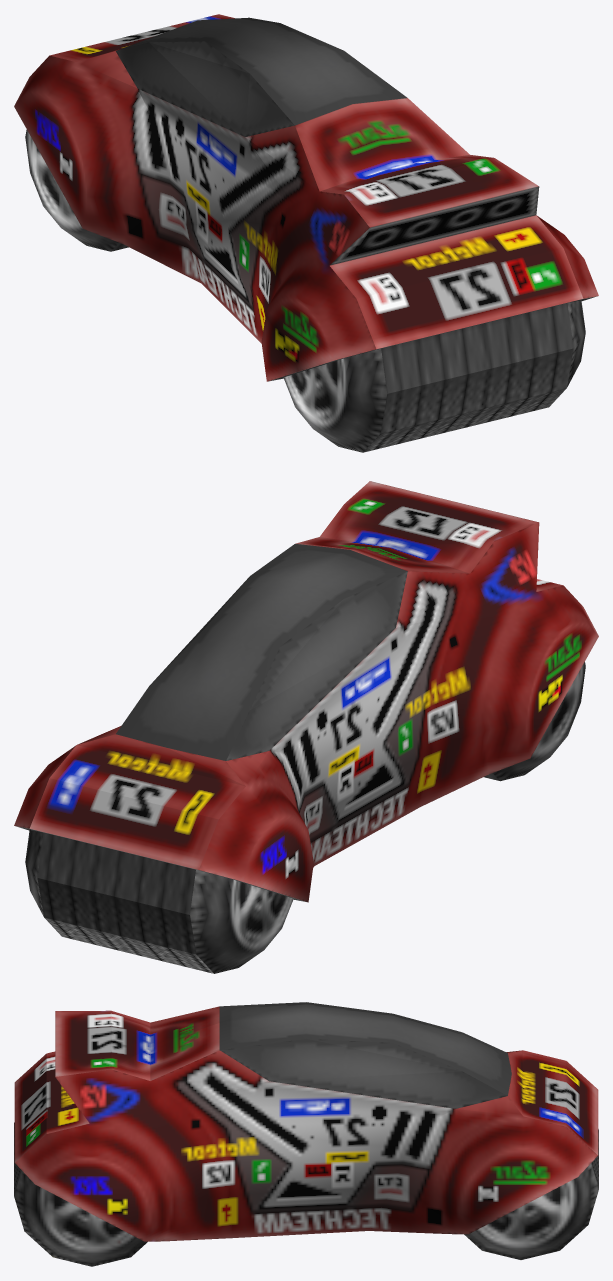
Rendered from motorbike.fbx.
3 renders of one model, top to bottom at view 1: azimuth 30°, elevation 25°; view 2: azimuth 150°, elevation 25°; view 3: azimuth 270°, elevation 25°, orthographic. The views are drawn at different scales.
Parts seen in each view (by area): view 1: spcbike1; view 2: spcbike1; view 3: spcbike1.
Part boxes in pixels (x1,y1,x2,y2): spcbike1: (14,14,598,452); spcbike1: (14,481,598,973); spcbike1: (14,1002,598,1266).
Bounding box in the file's own units: 53.51 × 52.56 × 129.
1 material, 1 textured.
